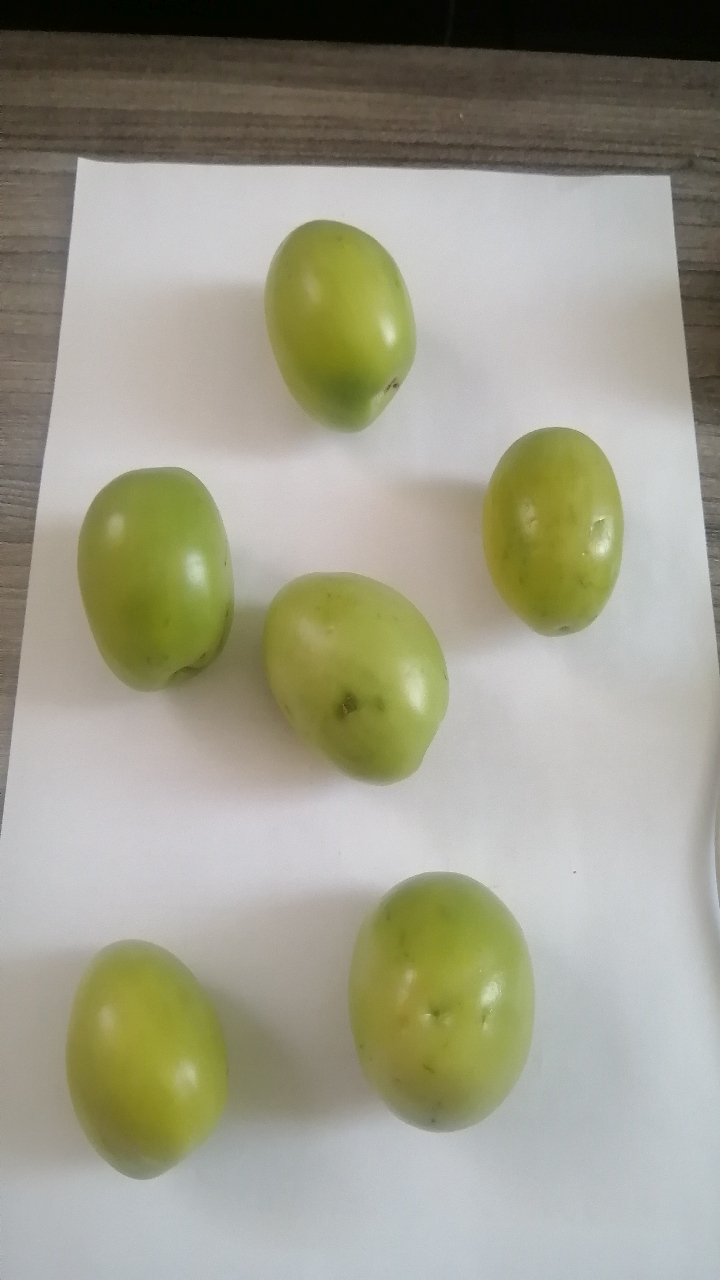tomateVerde: (323, 857, 561, 1160), (49, 920, 238, 1197), (246, 217, 455, 466), (255, 568, 477, 802), (474, 415, 648, 675), (72, 460, 258, 700)
